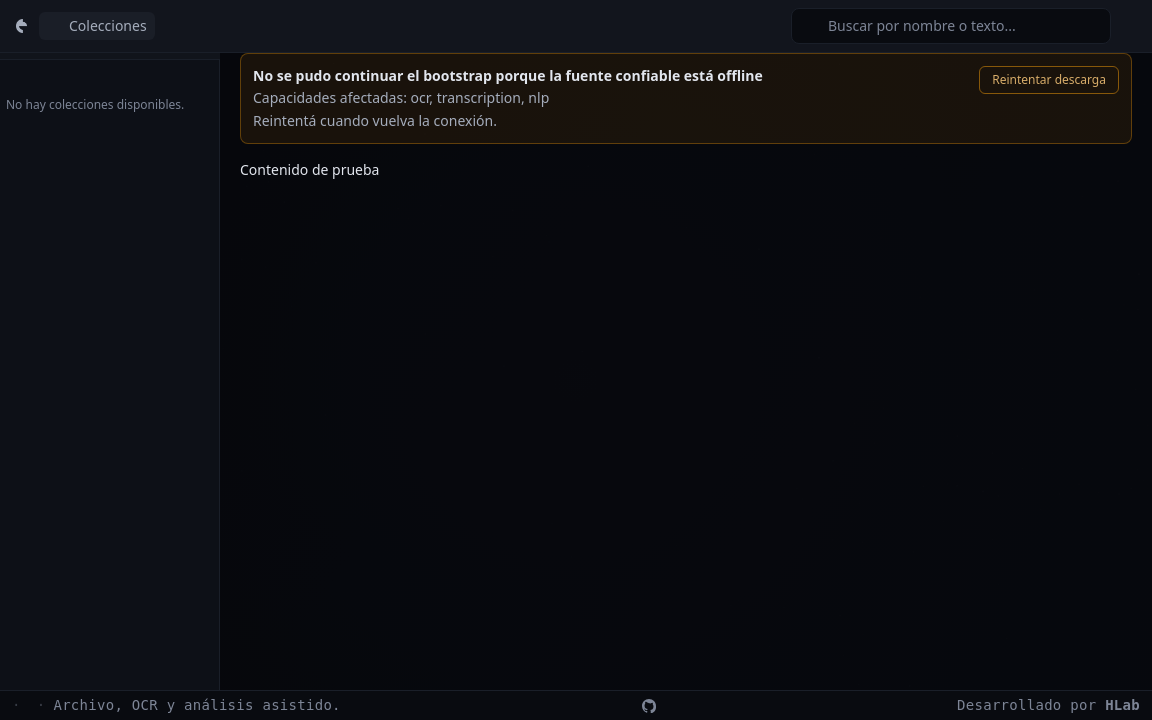
Test: AppShell › runtime bootstrap banner › failure_or_offline_shows_reintentar_descarga
The width and height of the screenshot is (1152, 720).
Click the button "Reintentar descarga".
click(1049, 80)  # box [979, 66, 1119, 94]
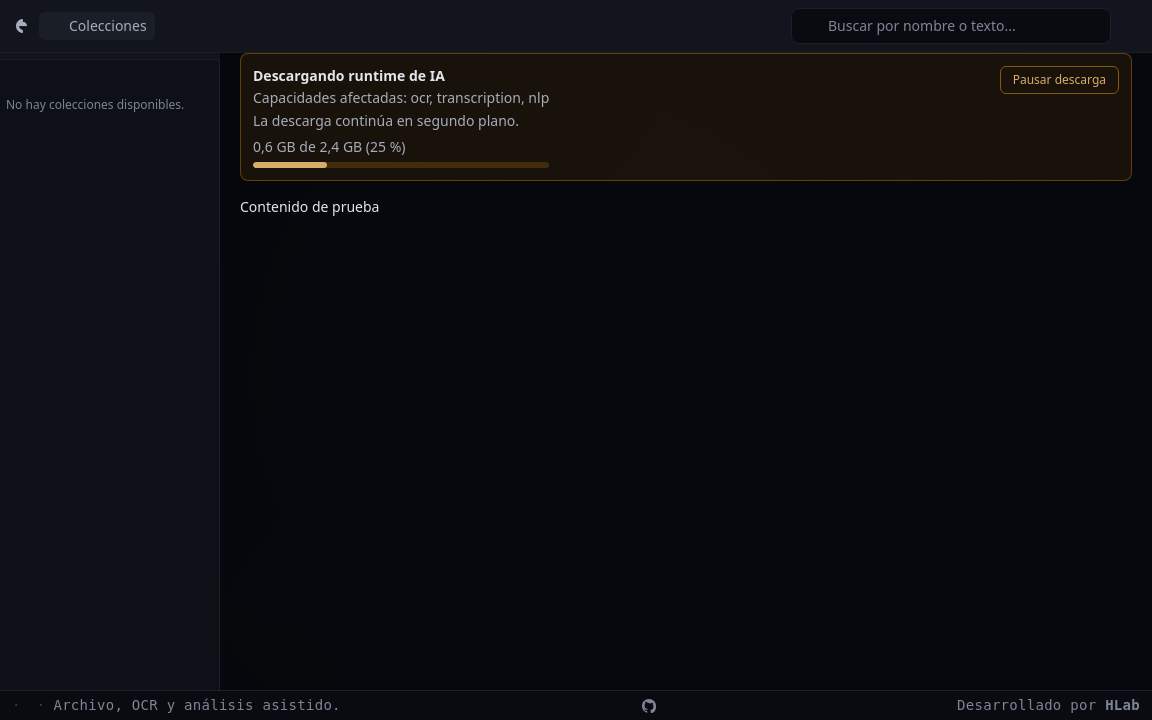
expect the text "0,6 GB de 2,4 GB (25 %)" is shown: met, box [253, 137, 406, 156]
